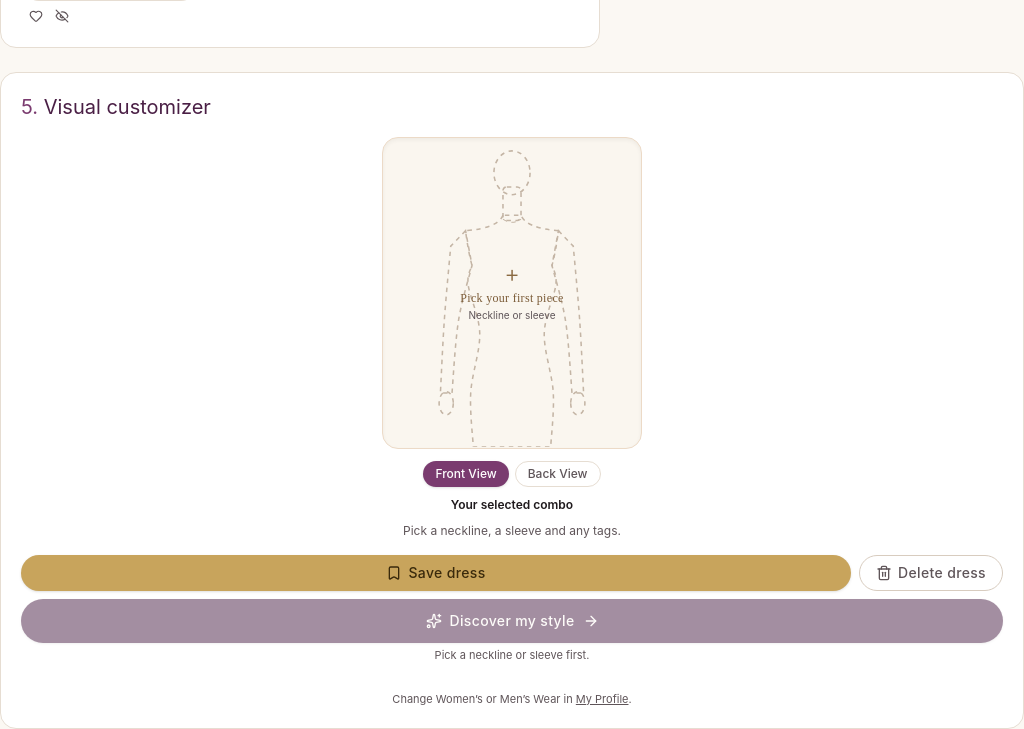
Scenario: DesignStudio › provides front view and back view toggle with back neck designs for saree blouse
(page scrolled)
Expected: the button "Front View" is shown, x1=423 y1=460 x2=509 y2=486
Click the button "Back View". click: (558, 474)
box: x1=515 y1=460 x2=601 y2=486
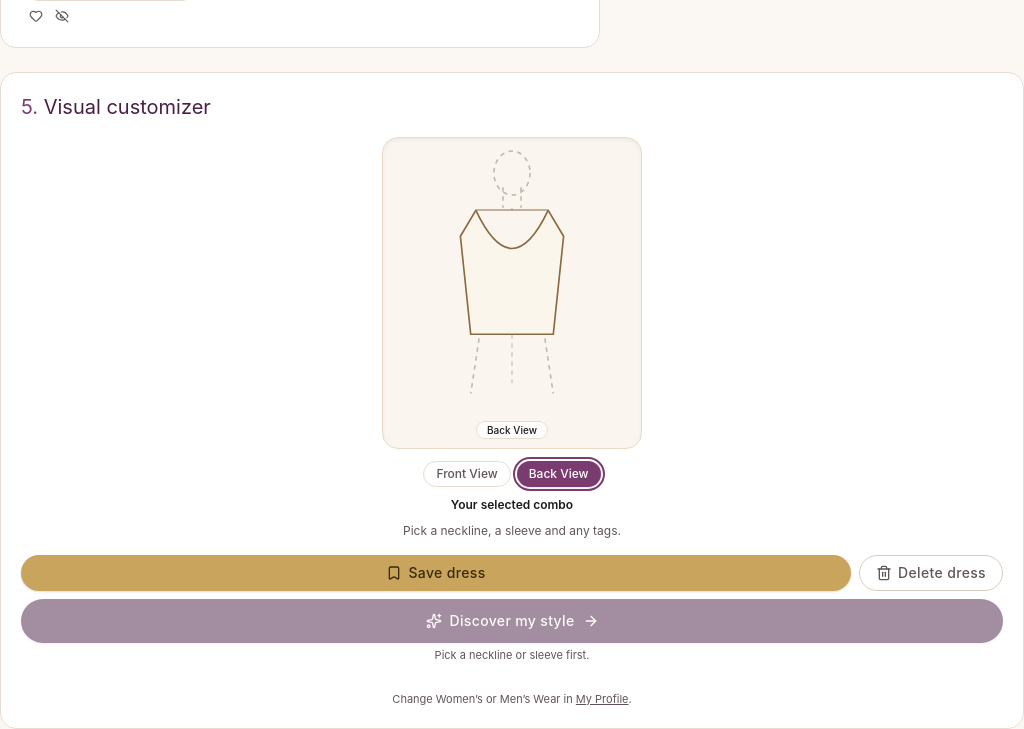
Expected: the icon named "Blouse back view try on" is shown, x1=383 y1=138 x2=641 y2=448
